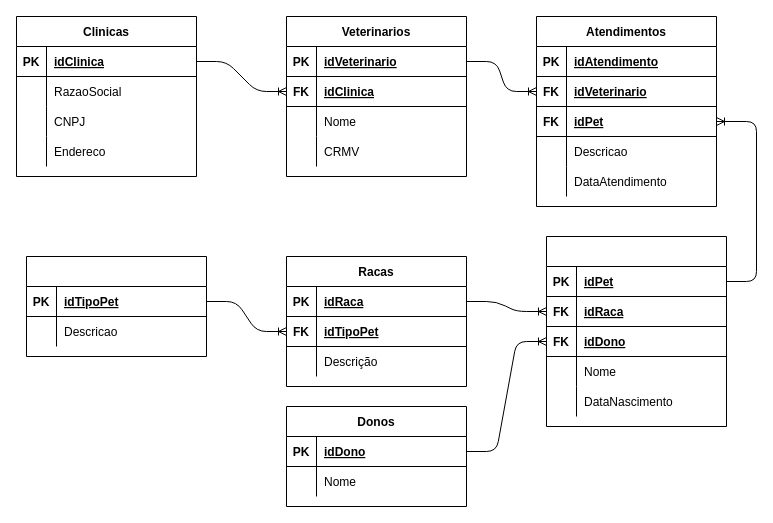
Image size: 773x523. Some labels were removed from this diagram. Each missing label, with the box of its shape:
Pets: (546, 236, 726, 426)
TipoPets: (26, 256, 206, 356)
